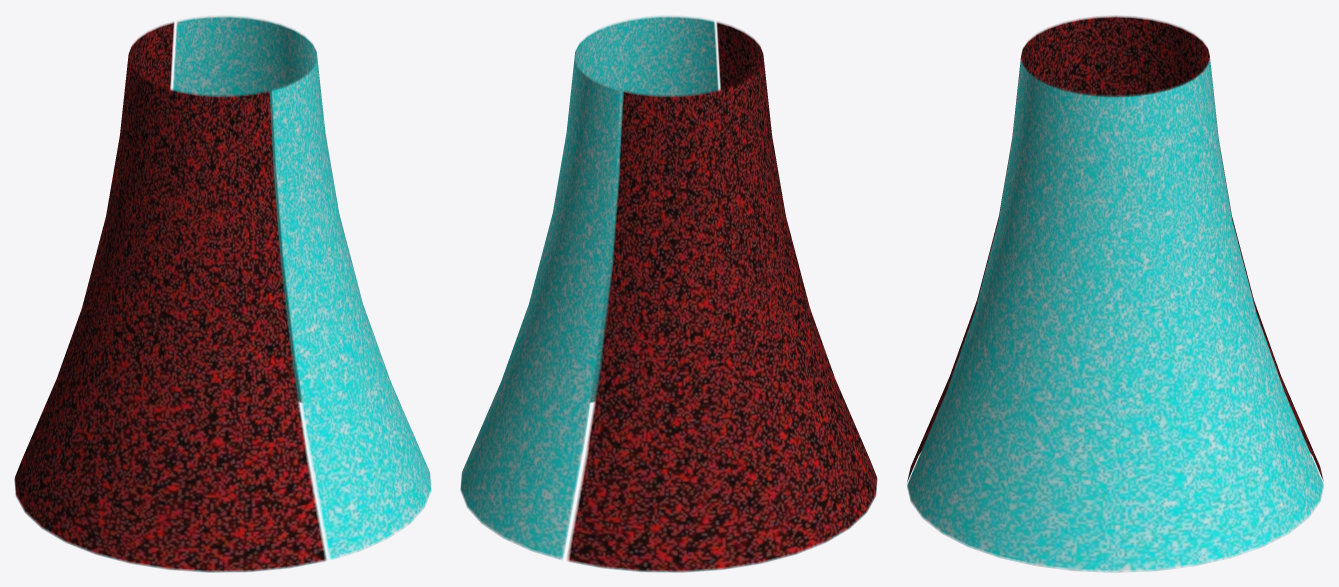
3 renders of one model, left to right at view 1: azimuth 30°, elevation 25°; view 2: azimuth 150°, elevation 25°; view 3: azimuth 270°, elevation 25°, orthographic.
Parts seen in each view (by area): view 1: SM_VFX_Magic_Fire_Column_LOD0; view 2: SM_VFX_Magic_Fire_Column_LOD0; view 3: SM_VFX_Magic_Fire_Column_LOD0.
Boxes of the visible parts, x1,y1,x2,y2 form: SM_VFX_Magic_Fire_Column_LOD0: (14,16,431,572); SM_VFX_Magic_Fire_Column_LOD0: (460,16,877,572); SM_VFX_Magic_Fire_Column_LOD0: (907,15,1323,572).
Bounding box in the file's own units: 1.76 × 2 × 1.76.
Materials: 1 (1 with a texture image).
